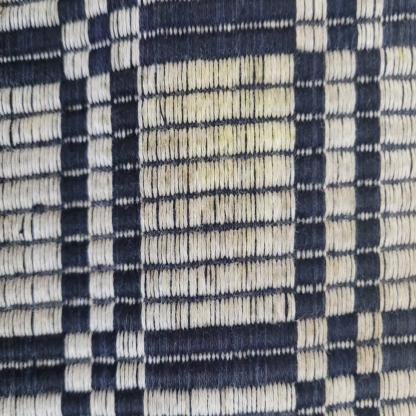spot: (118, 18, 299, 240)
